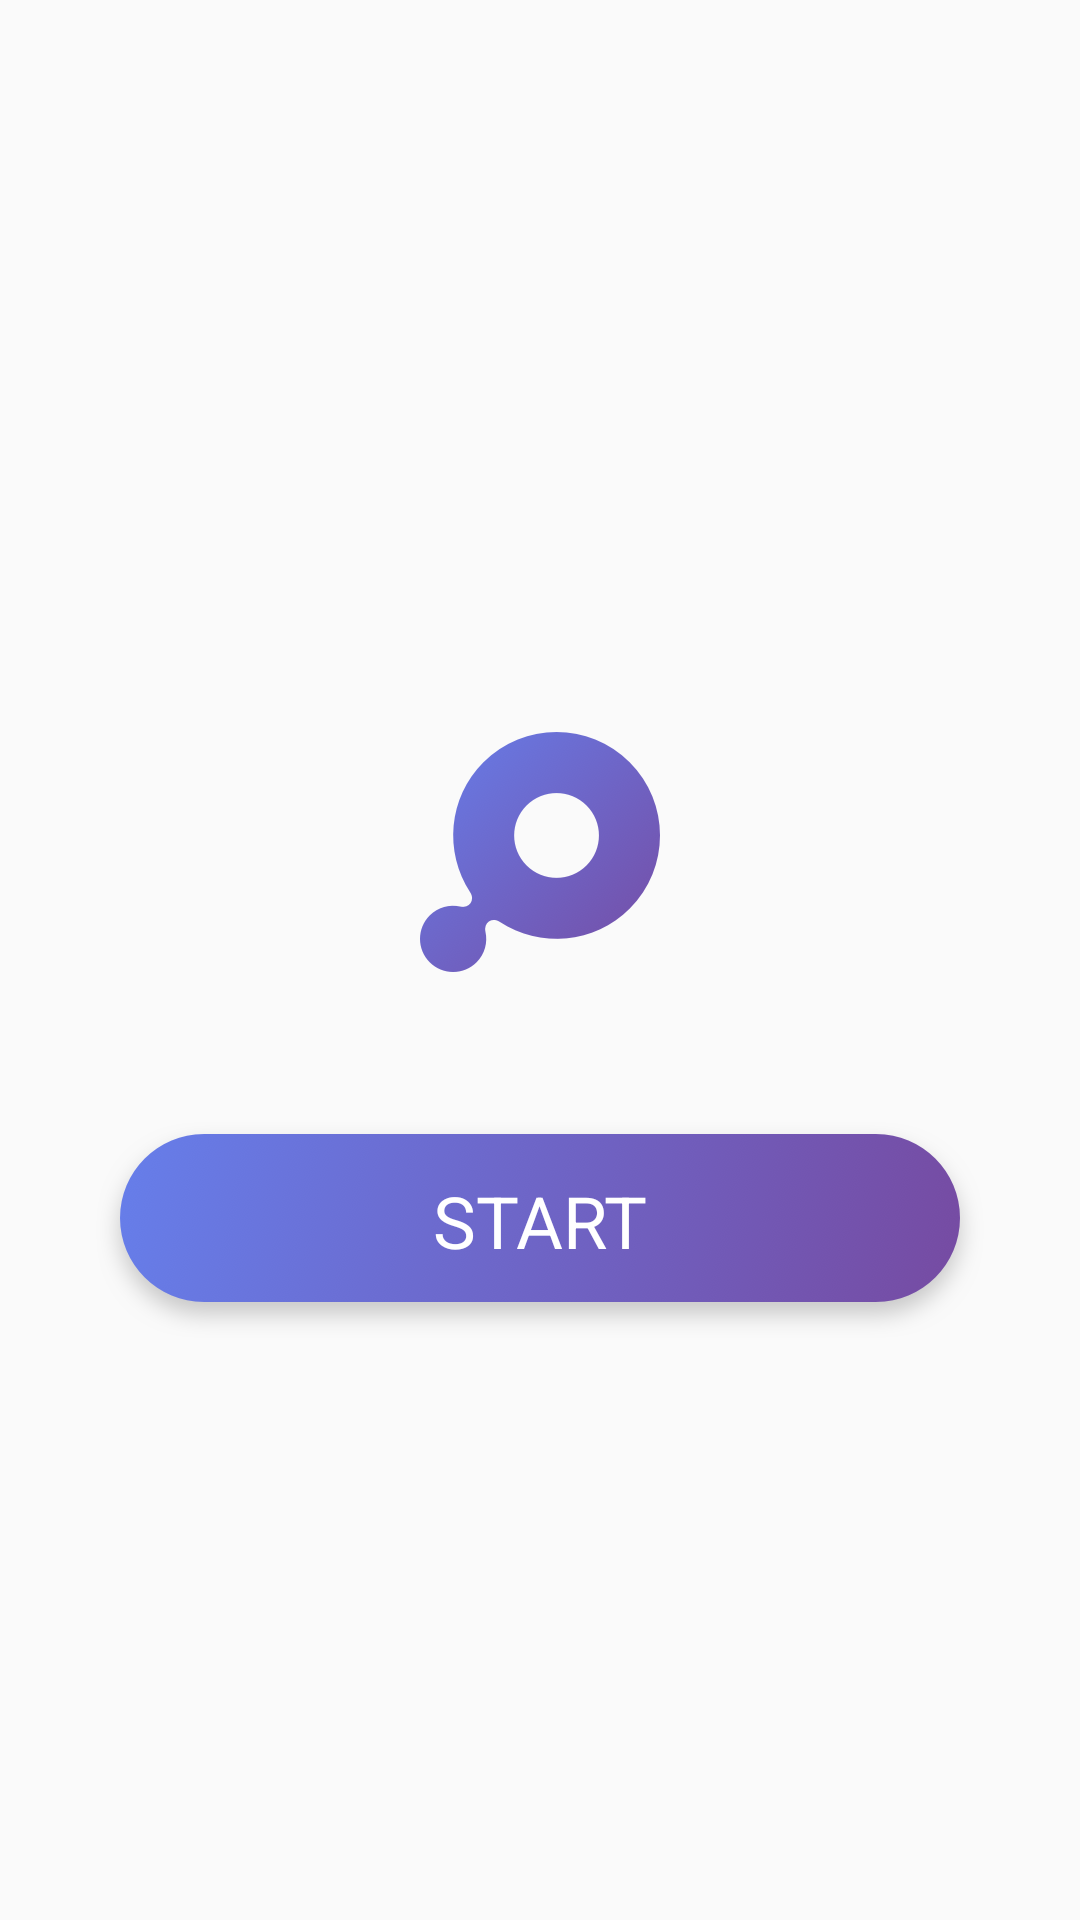

Screen size 1080 × 1920. Icon name, then its box in pixels as (x1, y1, x2, y2):
symbol: (420, 732, 660, 972)
